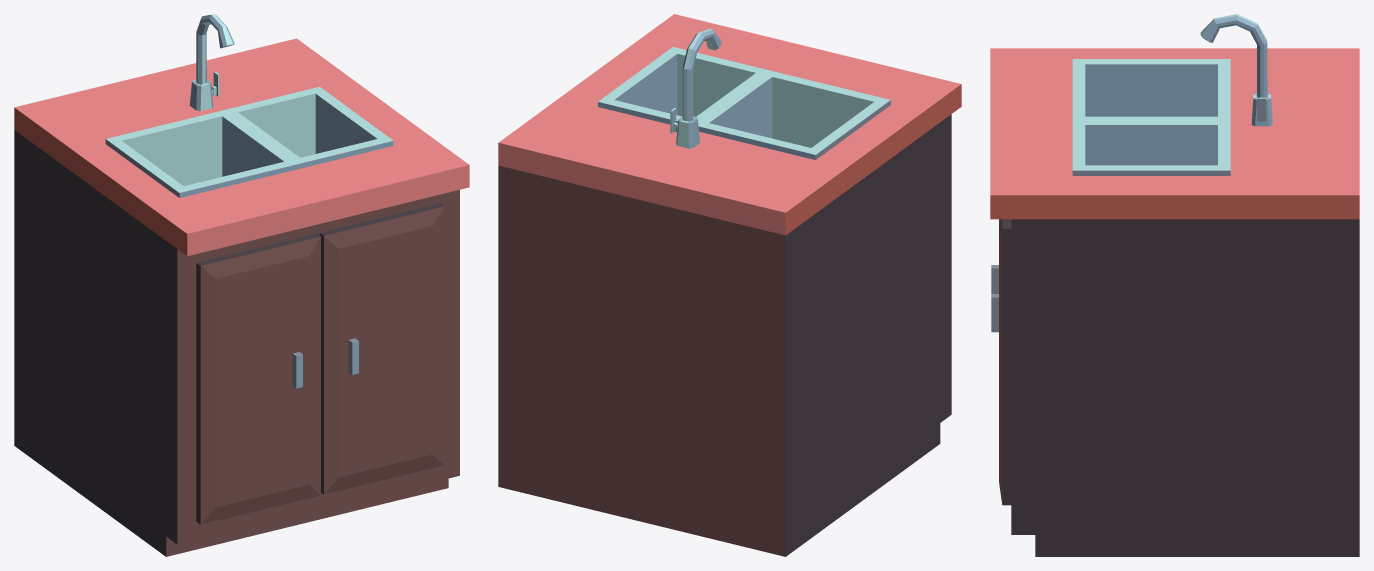
Rendered from Kitchen Cabinet v1 Sink.fbx.
The picture shows the model from 3 angles, left to right: view 1: azimuth 30°, elevation 25°; view 2: azimuth 150°, elevation 25°; view 3: azimuth 270°, elevation 25°; orthographic projection. The views are drawn at different scales.
Visible parts, largest first — view 1: Kitchen Cabinet v1 Sink; view 2: Kitchen Cabinet v1 Sink; view 3: Kitchen Cabinet v1 Sink.
Part boxes in pixels (x1,y1,x2,y2): Kitchen Cabinet v1 Sink: (14,14,469,556); Kitchen Cabinet v1 Sink: (498,14,961,556); Kitchen Cabinet v1 Sink: (990,14,1359,556).
Bounding box in the file's own units: 200 × 297 × 212.
